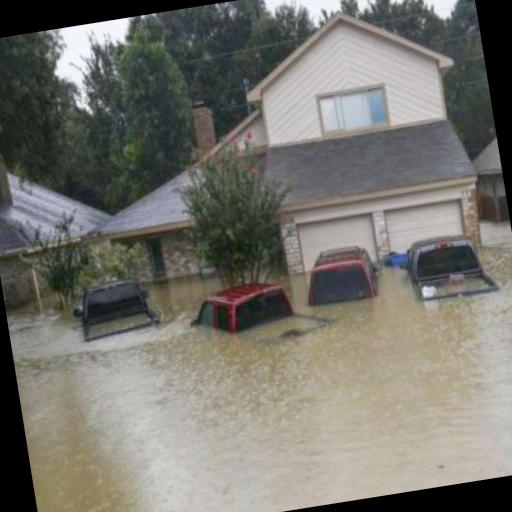flood: (6, 223, 512, 512)
house: (242, 0, 484, 279), (0, 116, 114, 292), (465, 94, 510, 226)
